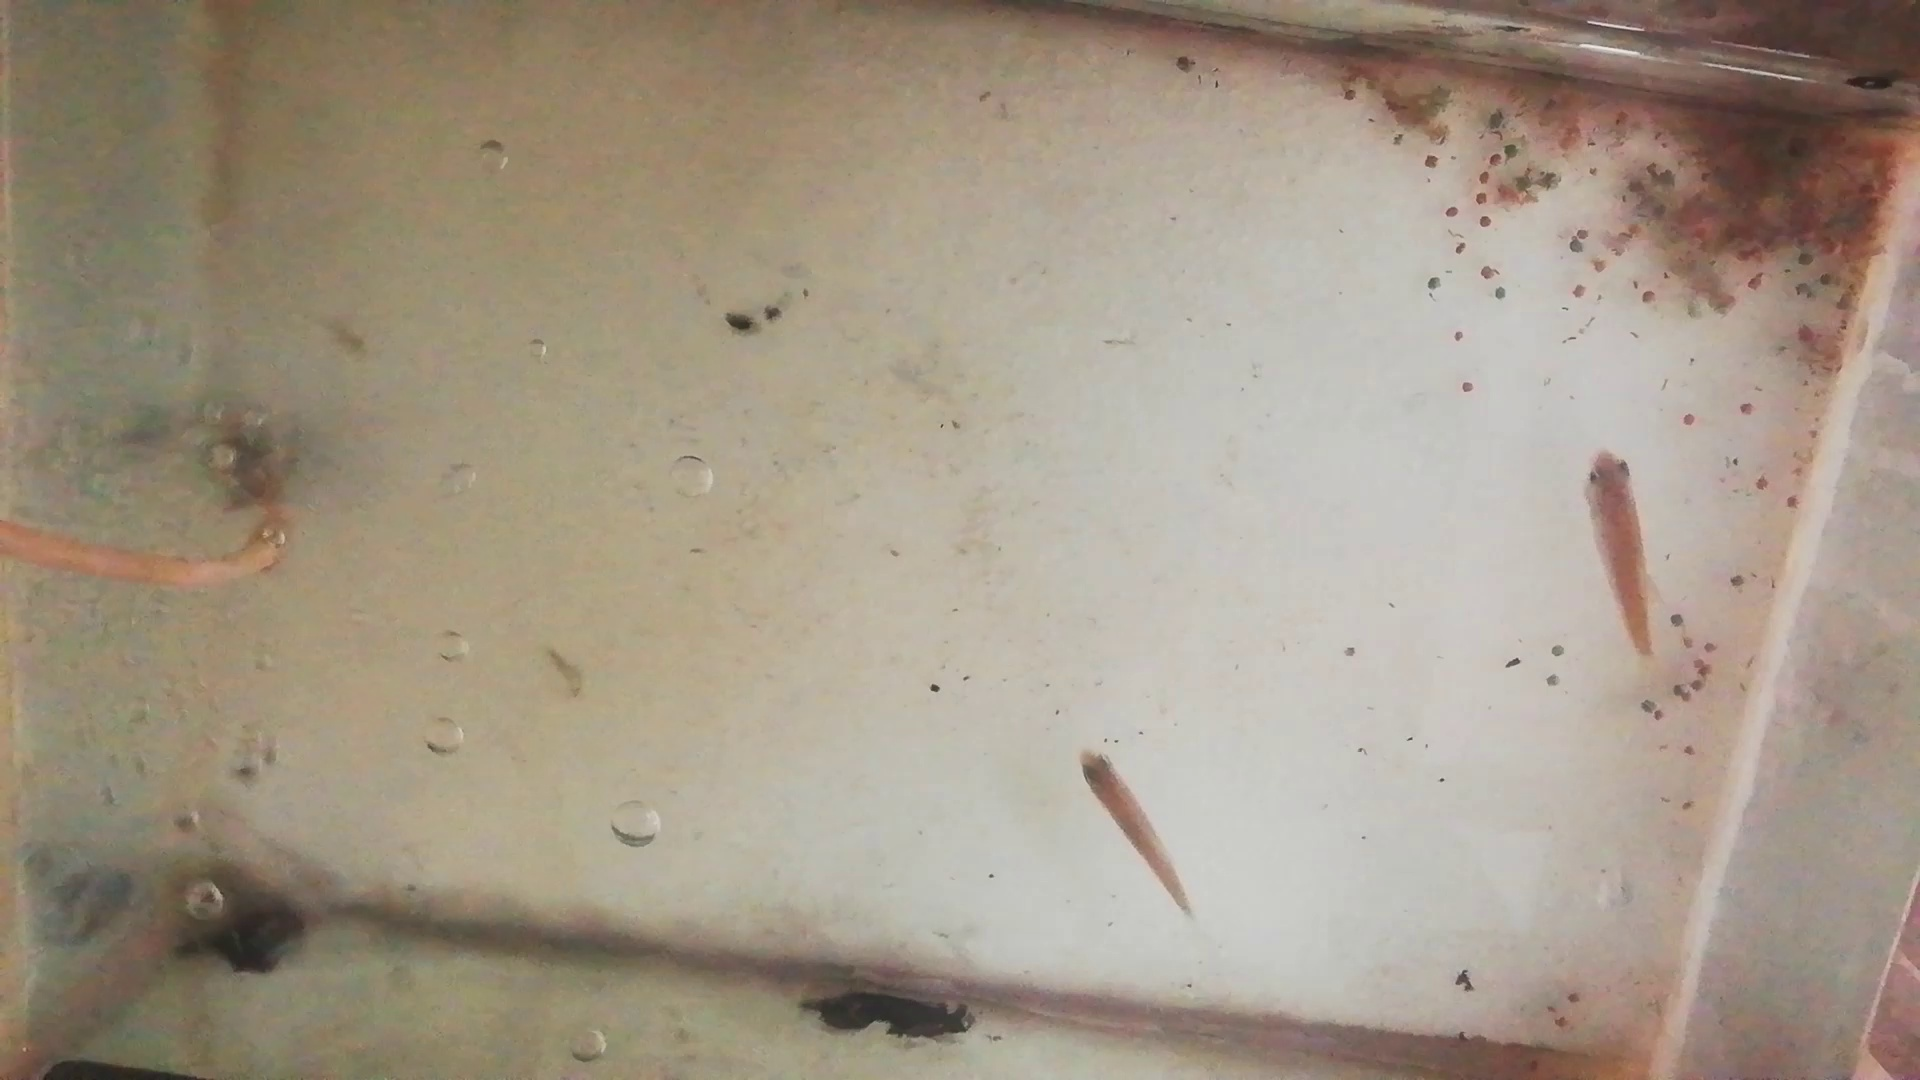fish: (1077, 745, 1195, 911), (1584, 447, 1664, 658)
